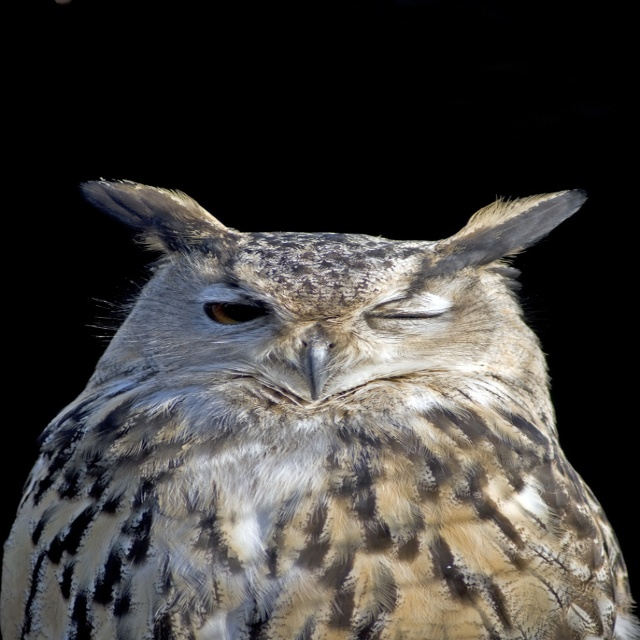Owl: (0, 182, 639, 640)
